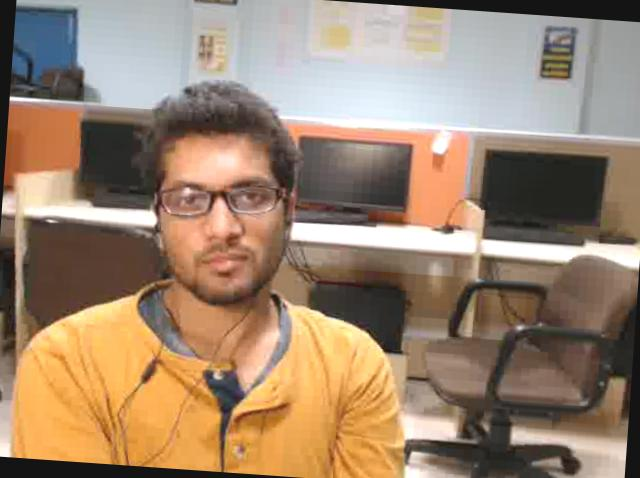bosan: (150, 127, 288, 301)
